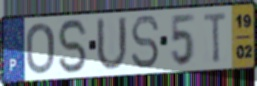5: (168, 11, 197, 68)
O: (24, 21, 56, 76)
S: (56, 17, 90, 76), (129, 13, 161, 71)
T: (203, 10, 229, 66)
U: (95, 16, 130, 74)
